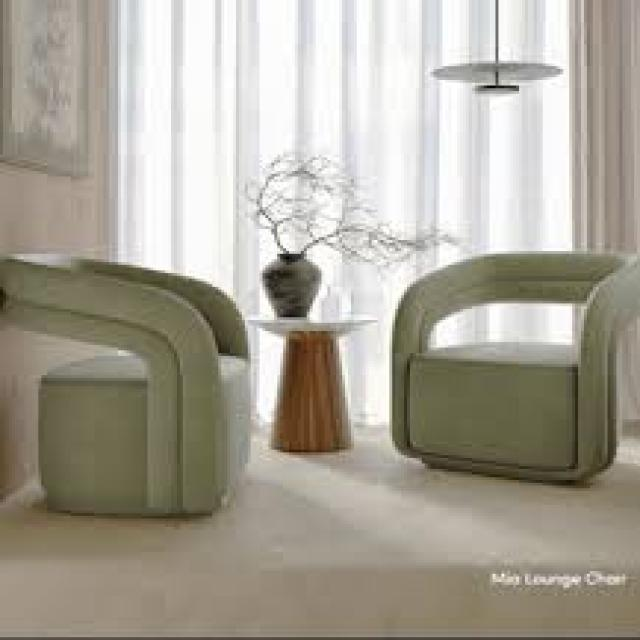chair: (0, 202, 269, 550), (348, 215, 640, 513)
